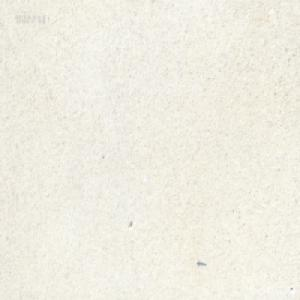Nail: (196, 259, 206, 266)
